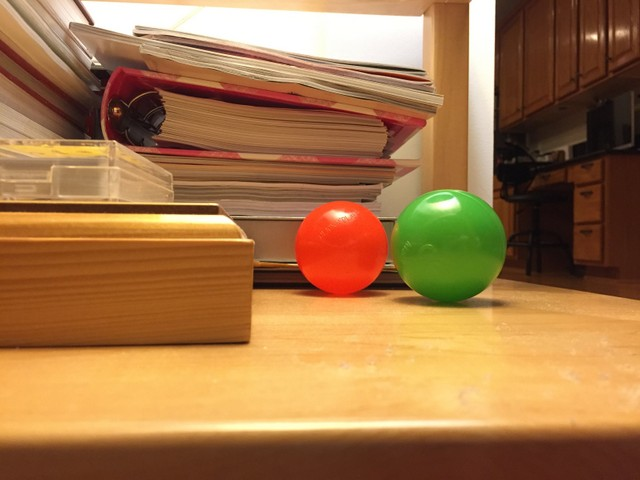Ball: (291, 198, 388, 298)
